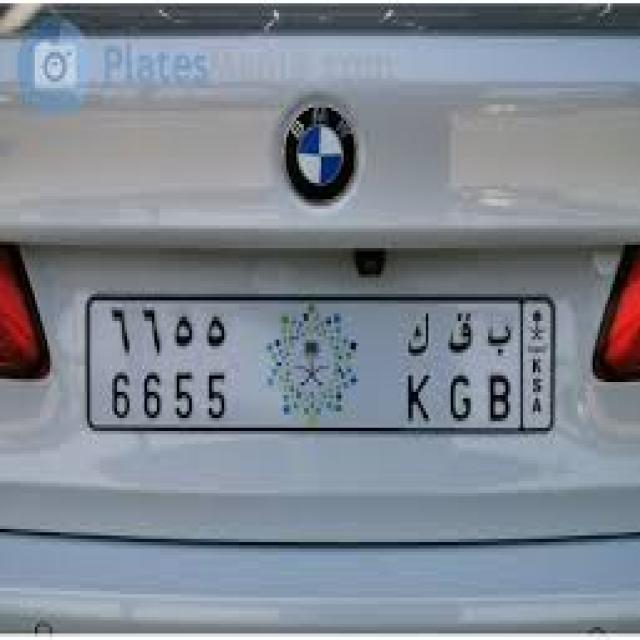license_plate: (81, 288, 564, 439)
